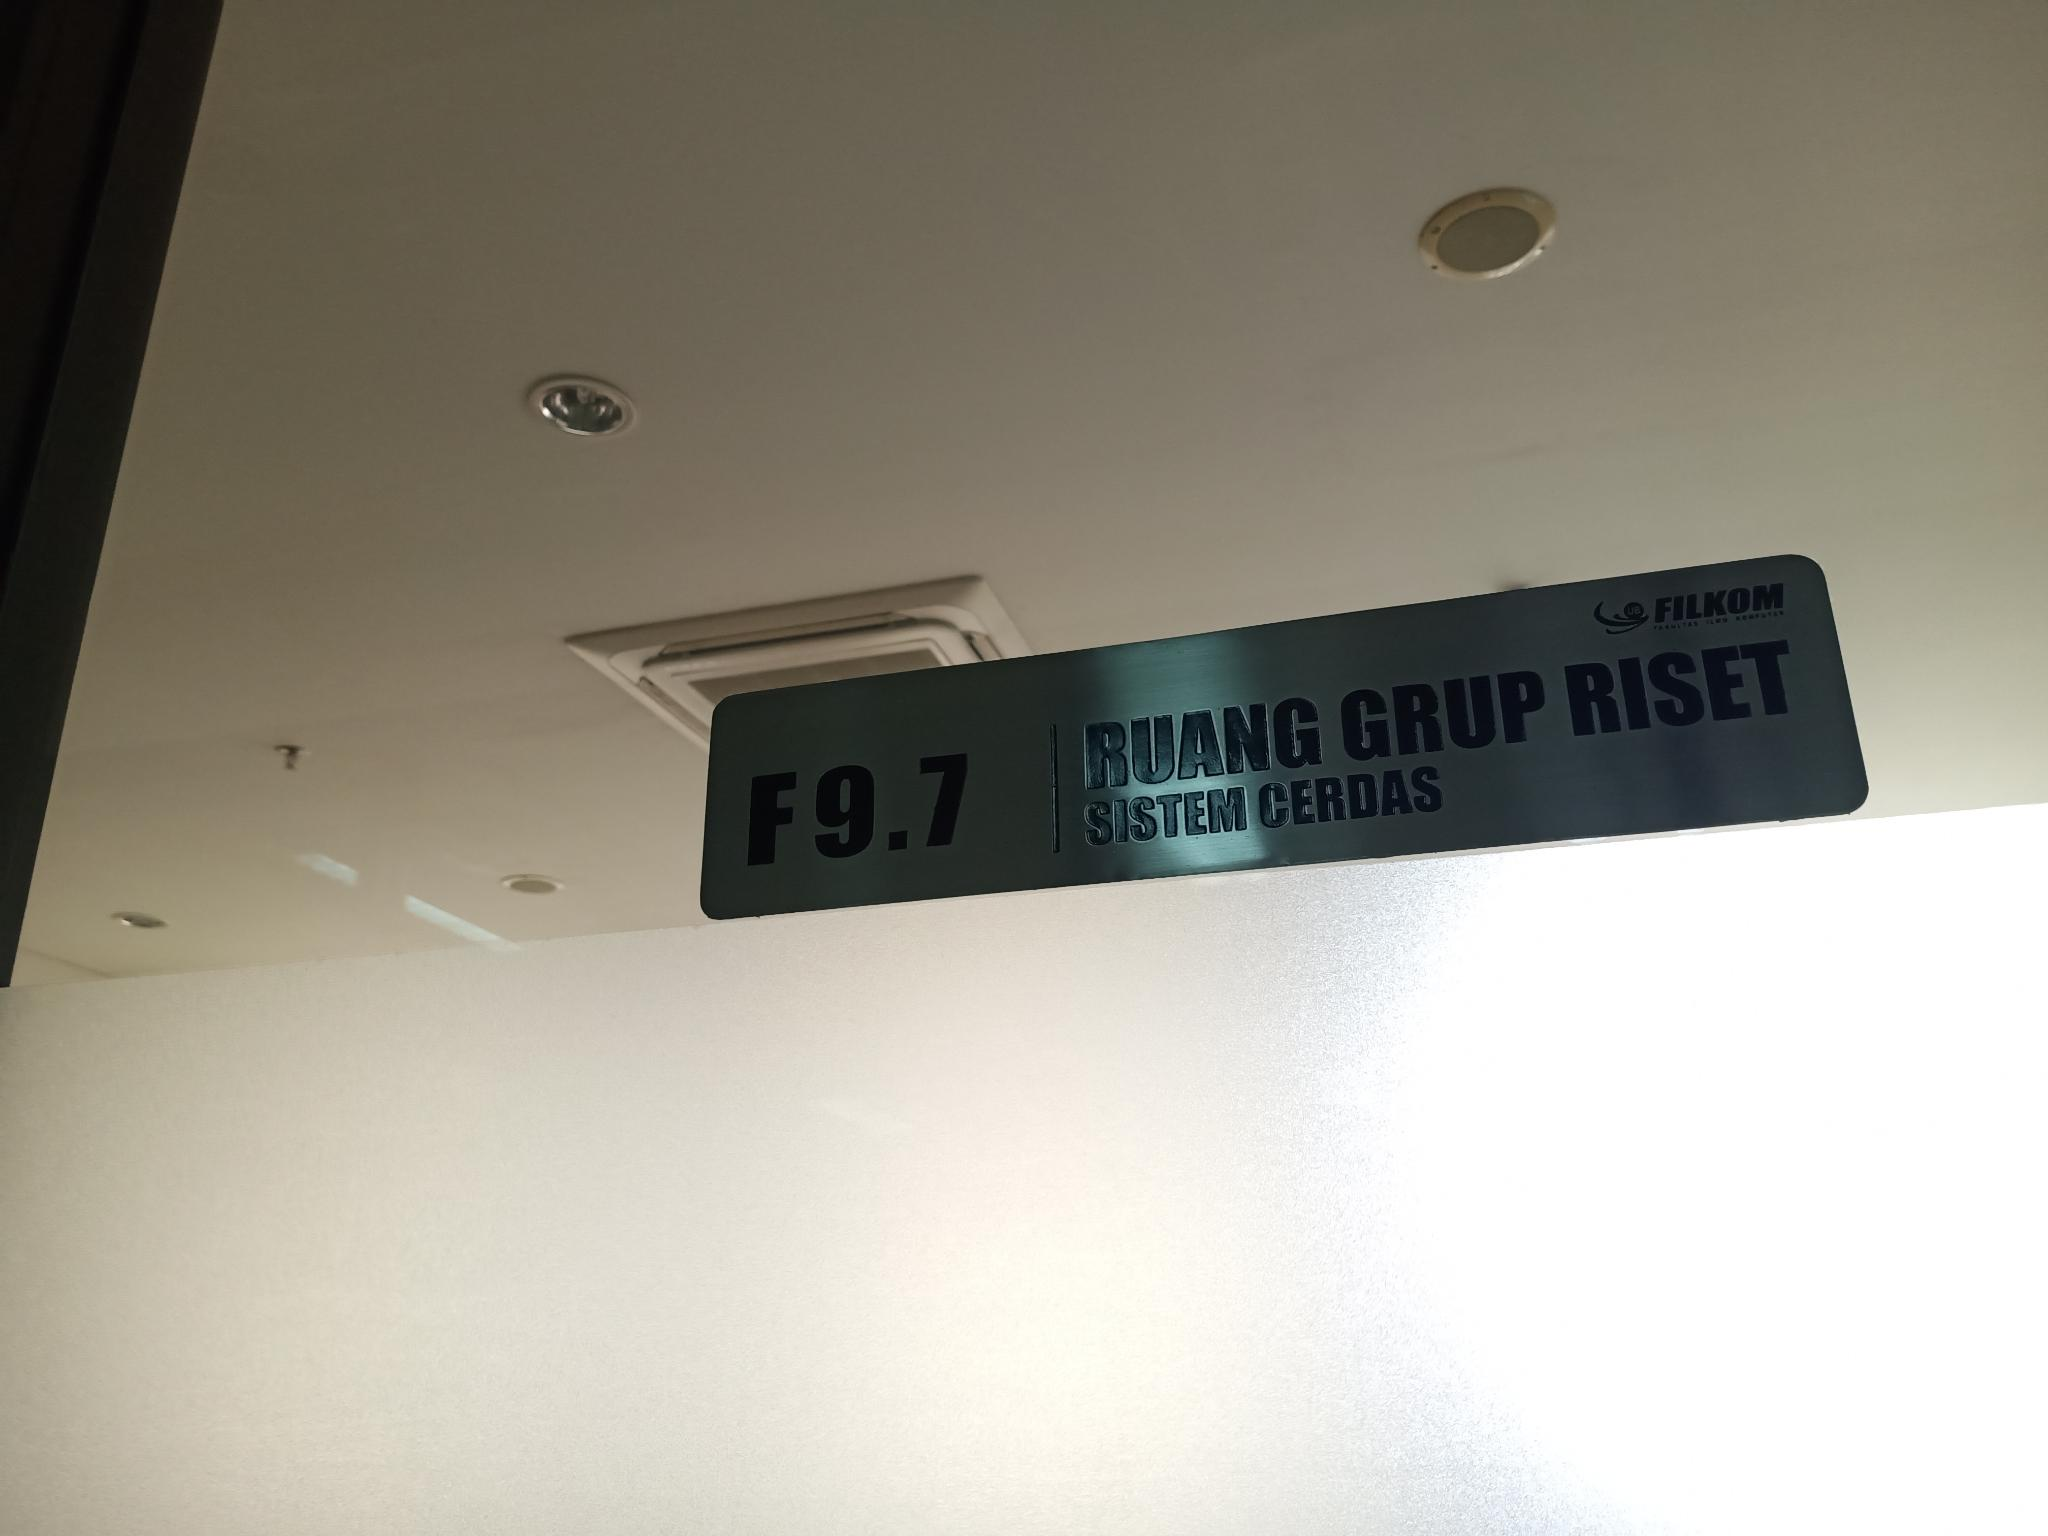plate: (701, 545, 1869, 925)
